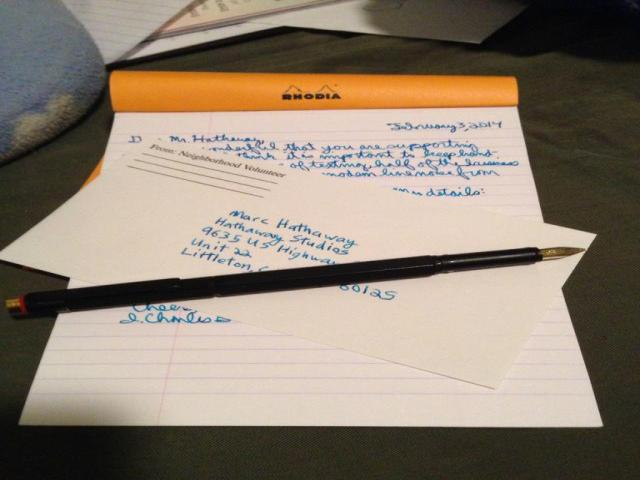PEN: (0, 206, 603, 331)
